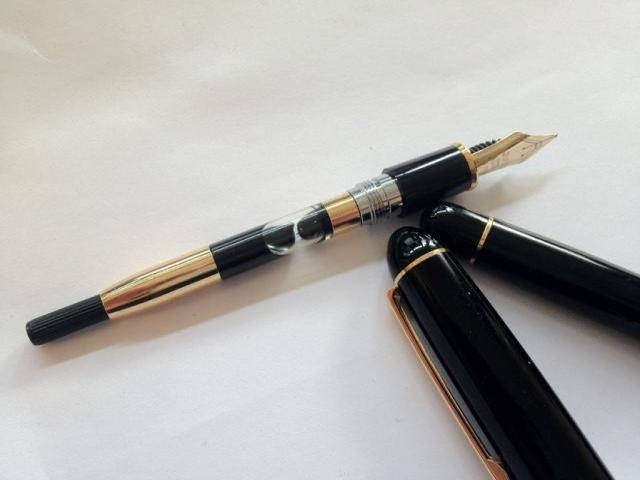PEN: (0, 78, 574, 368), (375, 209, 640, 477)
